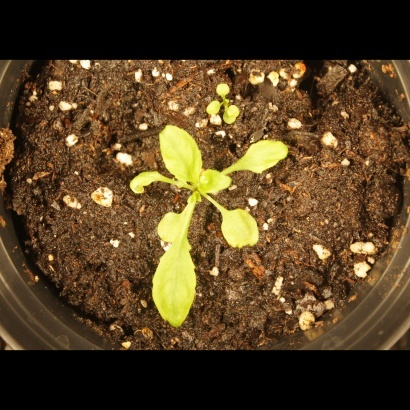leaf: (145, 240, 210, 331), (158, 117, 203, 185), (212, 201, 265, 255), (231, 139, 294, 180), (155, 206, 192, 246), (125, 163, 164, 199), (199, 168, 236, 195), (211, 76, 234, 99), (200, 97, 223, 120), (223, 101, 246, 124)
